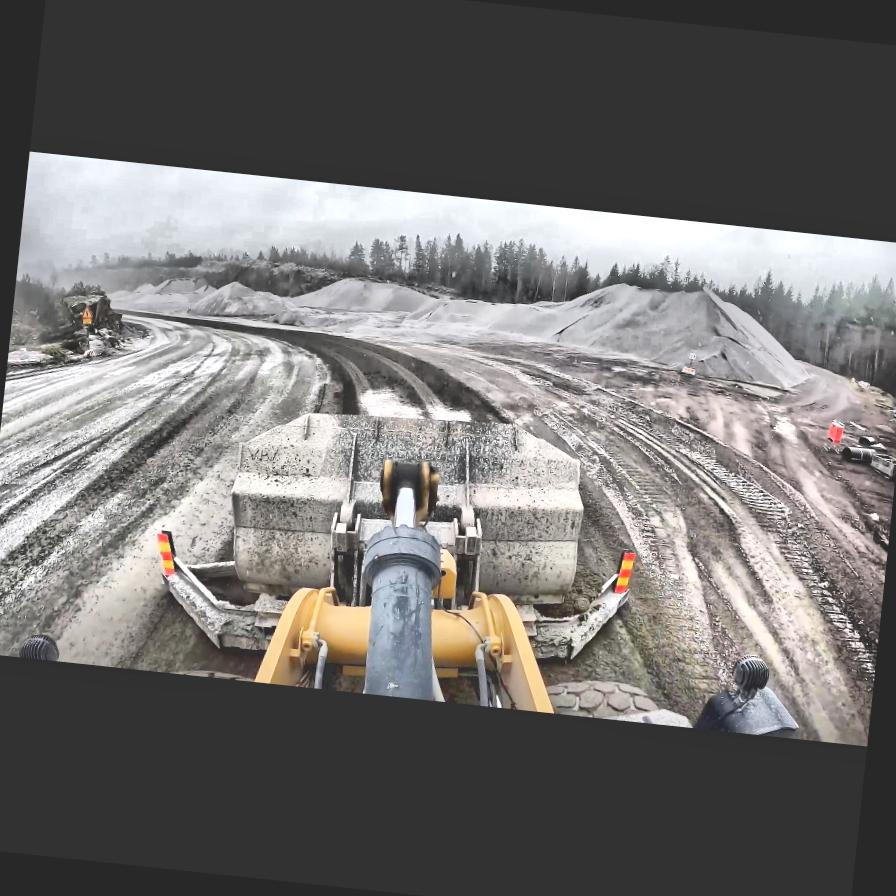anchor: (376, 457, 438, 527)
pile of gravel: (531, 270, 812, 392), (110, 265, 310, 328), (176, 245, 340, 305), (443, 290, 583, 344), (149, 272, 204, 298), (132, 280, 156, 295)
